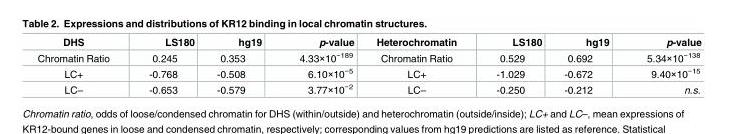table: (36, 37, 700, 95)
table column: (364, 37, 475, 95), (36, 37, 128, 95), (279, 37, 364, 95), (475, 37, 552, 95), (128, 37, 204, 95), (204, 37, 279, 95), (552, 37, 627, 95), (627, 37, 700, 95)
table column header: (36, 37, 700, 48)
table row: (36, 48, 700, 65), (36, 65, 700, 80), (36, 80, 700, 95), (36, 37, 700, 48)
